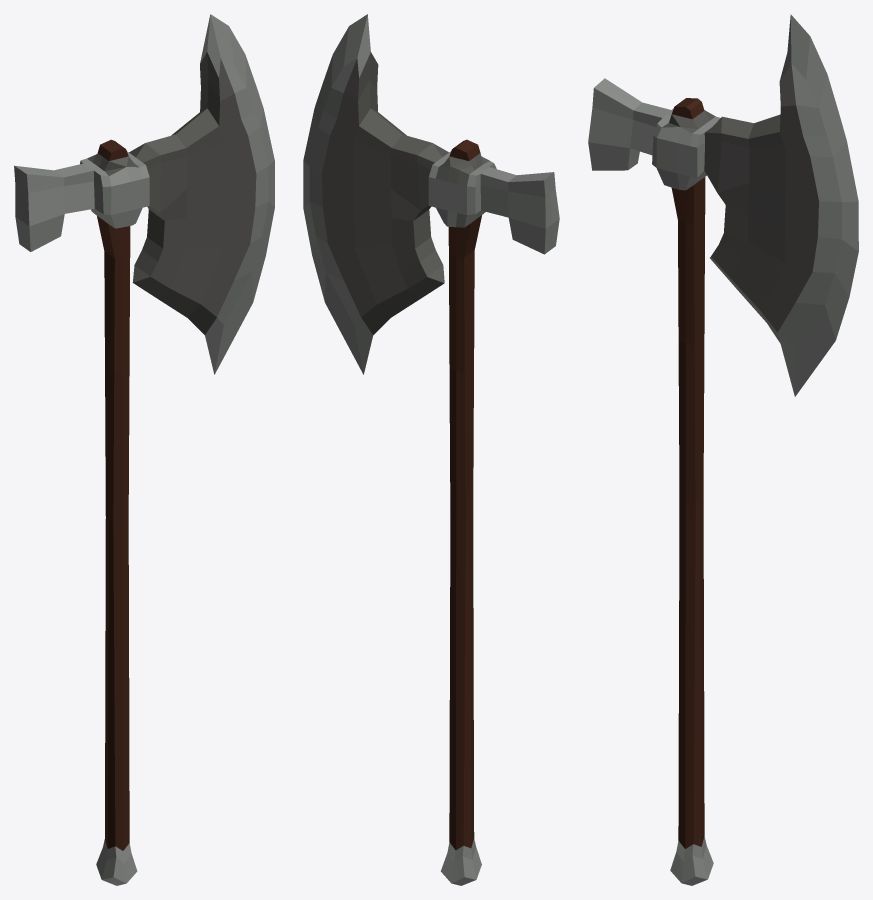
Rendered from Minotauros axe.fbx.
3 views of the same model, side by side, from view 1: azimuth 30°, elevation 25°; view 2: azimuth 150°, elevation 25°; view 3: azimuth 330°, elevation 25° (orthographic). The views are drawn at different scales.
Visible parts, largest first — view 1: Cube.001; view 2: Cube.001; view 3: Cube.001.
Part boxes in pixels (x1,y1,x2,y2): Cube.001: (14,14,274,885); Cube.001: (303,14,559,885); Cube.001: (588,14,858,885).
Size of the model in its own units: 577 by 1865 by 112.
